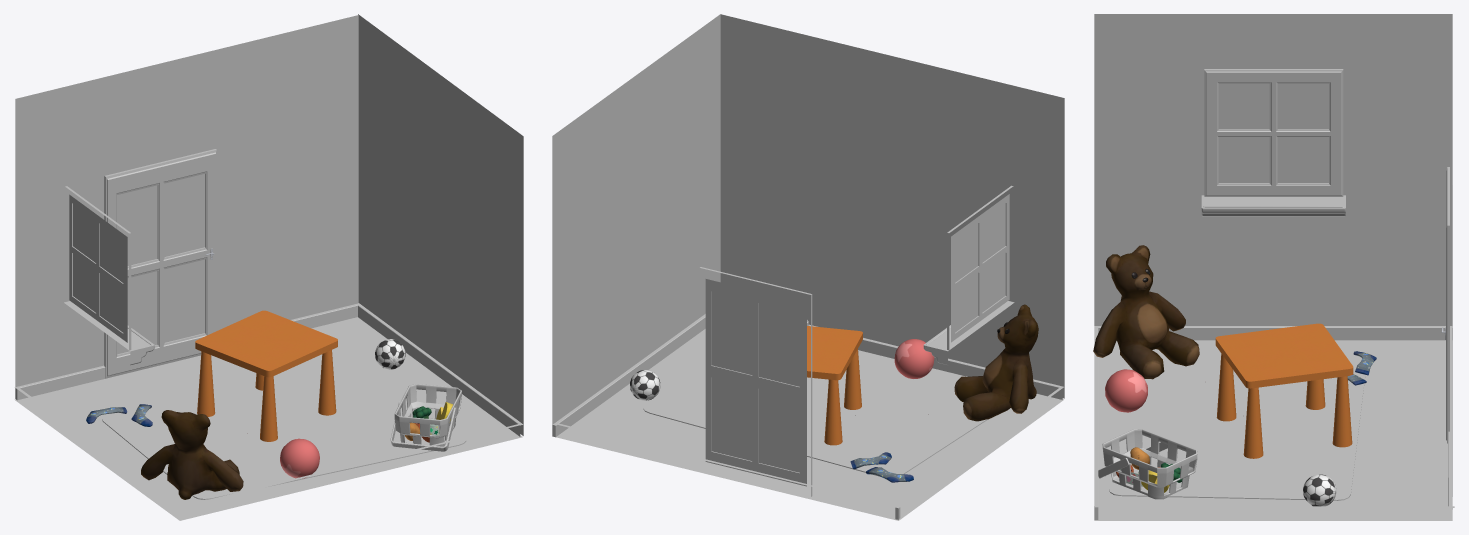
3 views of the same model, side by side, from view 1: azimuth 30°, elevation 25°; view 2: azimuth 150°, elevation 25°; view 3: azimuth 270°, elevation 25° (orthographic). The views are drawn at different scales.
Parts seen in each view (by area): view 1: Wall1_Mat_Room_0.004, Wall1_Mat_Room_0.003, Floor, Rug, WindowLight_Mat_Light_0.001, WindowFrame_Mat_Box_0.001, Table6, WindowLight, Bear, Basket1, WallTrim1_Mat_Room_0.002, WallTrim1_Mat_Room_0.003 (+5 smaller); view 2: Wall1, Wall1_Mat_Room_0.003, WindowLight_Mat_Light_0.001, Floor, Rug, WindowLight, Bear, Table6, WallTrim1_Mat_Room_0.002, WallTrim1, Ball1, WindowFrame_Mat_Box_0.001 (+5 smaller); view 3: Wall2, Floor, Rug, Table6, WindowLight, WindowFrame, Bear, Basket1, WindowSil, WallTrim2, Ball1, WindowFrame_Mat_Box_0.001 (+4 smaller).
Part boxes in pixels (x1,y1,x2,y2): Wall1_Mat_Room_0.004: (15,15,358,386); Wall1_Mat_Room_0.003: (358,14,523,435); Floor: (14,317,522,520); Rug: (102,360,466,499); WindowLight_Mat_Light_0.001: (117,174,204,354); WindowFrame_Mat_Box_0.001: (104,149,216,378); Table6: (195,310,337,441); WindowLight: (69,194,127,342); Bear: (141,410,243,499); Basket1: (394,384,461,446); WallTrim1_Mat_Room_0.002: (357,303,522,436); WallTrim1_Mat_Room_0.003: (15,303,359,400); Wall1: (720,14,1064,398); Wall1_Mat_Room_0.003: (552,14,720,424); WindowLight_Mat_Light_0.001: (705,279,806,486); Floor: (556,329,1063,520); Rug: (643,357,987,476); WindowLight: (951,194,1009,342); Bear: (954,304,1038,421); Table6: (807,326,862,445); WallTrim1_Mat_Room_0.002: (552,314,705,437); WallTrim1: (808,324,1063,399); Ball1: (894,339,934,378); WindowFrame_Mat_Box_0.001: (700,267,812,496); Wall2: (1094,14,1452,325); Floor: (1094,340,1452,520); Rug: (1109,356,1365,500); Table6: (1215,323,1353,458); WindowLight: (1218,83,1328,182); WindowFrame: (1204,69,1343,196); Bear: (1093,245,1199,379); Basket1: (1102,429,1197,499); WindowSil: (1201,195,1345,216); WallTrim2: (1094,326,1452,340); Ball1: (1105,369,1147,412); WindowFrame_Mat_Box_0.001: (1446,167,1449,443).
Bounding box in the file's own units: 218 × 184 × 183.
